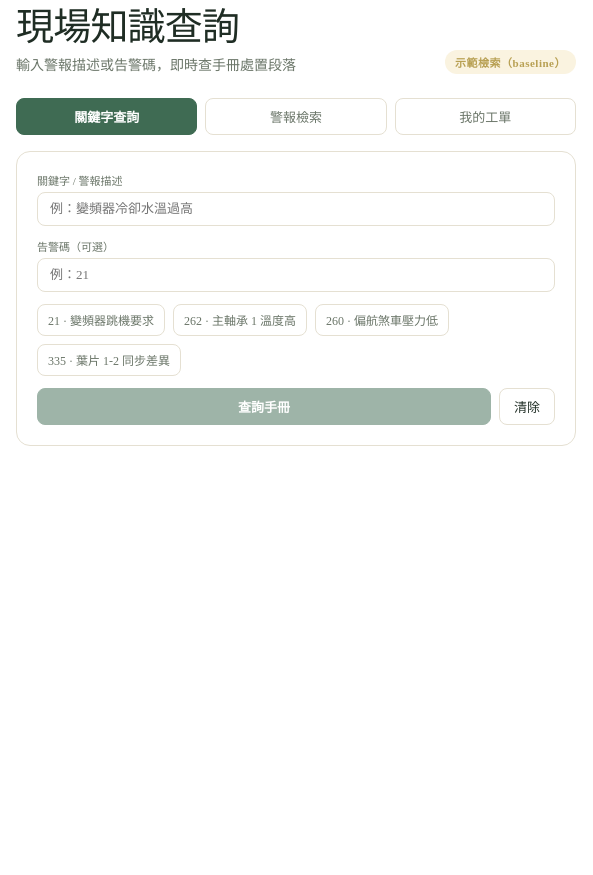
Test case: FieldPage 現場知識查詢頁 › 警報模式有結果時渲染警報摘要 +「系統據此檢索」query + chunk
The image size is (593, 875).
Expected: the text "WTG-07" is not shown
# 切到 alert 模式才看得到結果摘要區
What coordinates should you click on to do the following:
click the button "警報檢索"
I would click on:
 (296, 116)
Its box is [205,98,387,135].
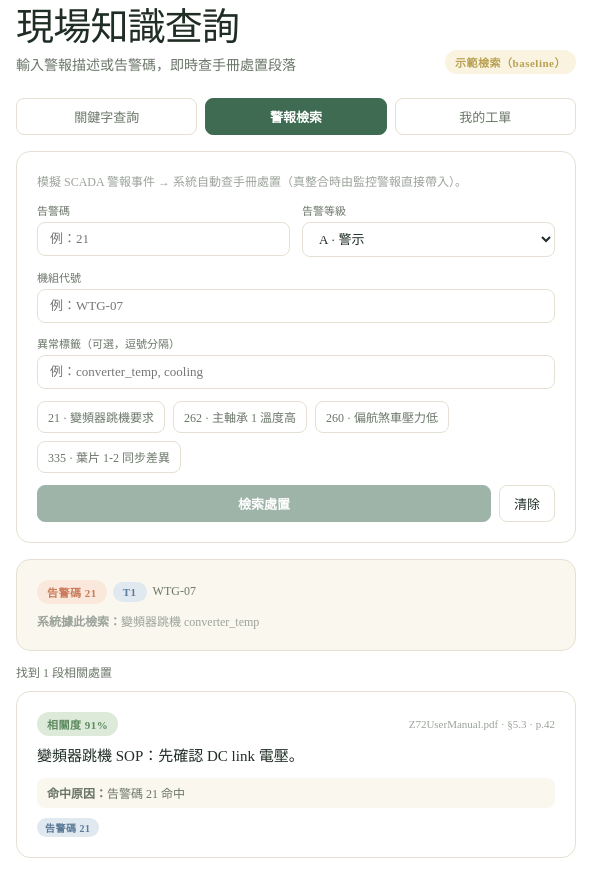
Result: the text "WTG-07" is shown at [153,584,196,599]
Result: the text "系統據此檢索：" is shown at [37,615,121,629]
Result: the text "變頻器跳機 SOP：先確認 DC link 電壓。" is shown at [37,748,304,764]
